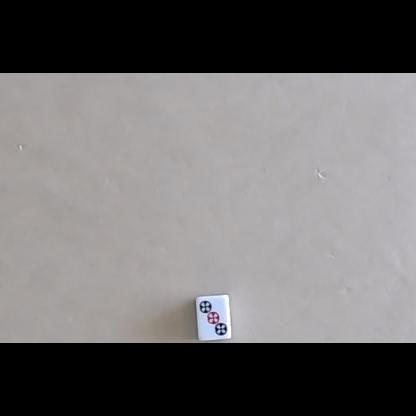3p: (199, 299, 228, 336)
